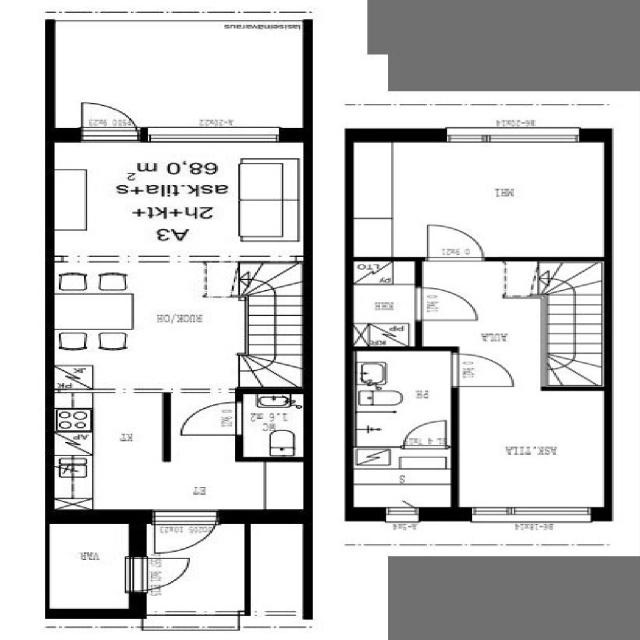door: (392, 554, 633, 640), (48, 524, 142, 612), (442, 349, 525, 392), (413, 220, 495, 263), (408, 284, 484, 327), (148, 511, 219, 555), (175, 400, 247, 440), (74, 98, 140, 138), (128, 555, 193, 591), (398, 416, 457, 451), (384, 505, 423, 523)
window: (434, 125, 586, 146), (140, 124, 286, 144), (468, 504, 598, 521), (383, 506, 420, 521)
zone: (50, 138, 303, 260), (352, 140, 612, 258), (48, 396, 294, 517), (49, 262, 260, 392), (393, 553, 631, 640), (450, 390, 611, 511), (353, 350, 456, 448), (47, 522, 129, 614), (350, 452, 457, 512), (349, 262, 421, 346), (237, 390, 306, 461)
